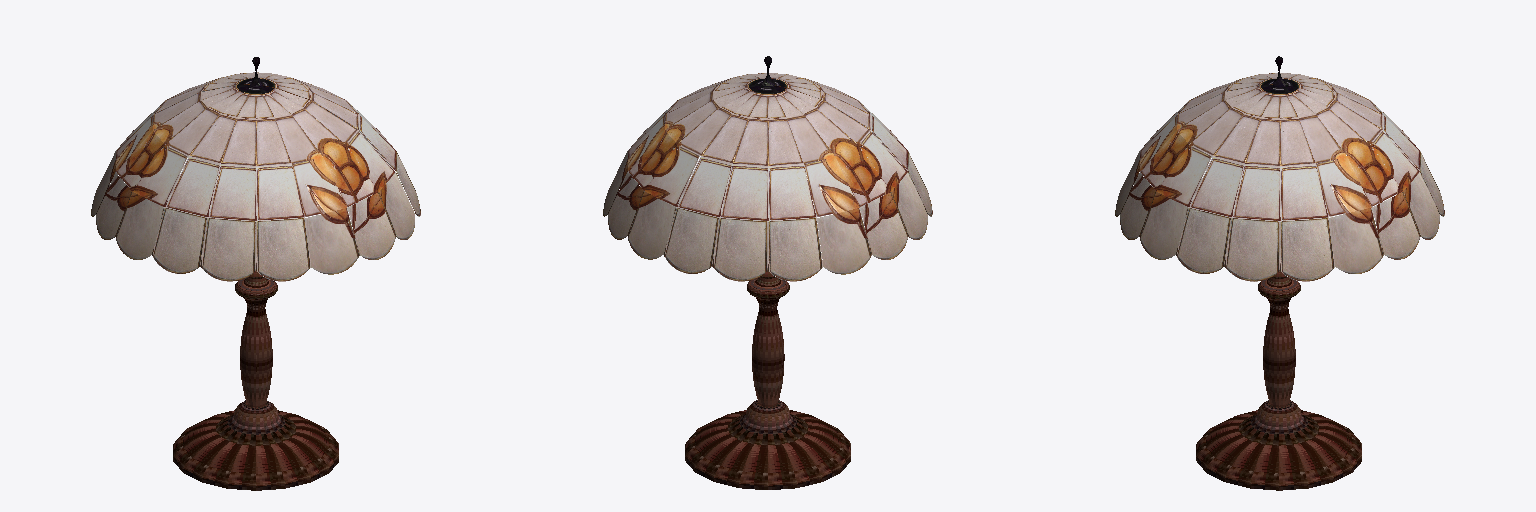
3 views of the same model, side by side, from view 1: azimuth 30°, elevation 25°; view 2: azimuth 150°, elevation 25°; view 3: azimuth 270°, elevation 25° (orthographic).
Parts seen in each view (by area): view 1: Mesh8 Group7 Model, Mesh6 Group2 Model, Mesh7 Group6 Model, Mesh10 osiemnastka1 Model, Mesh18 osiemnastka9 Model, Mesh17 osiemnastka8 Model, Mesh11 osiemnastka2 Model, Mesh16 osiemnastka7 Model, Mesh12 osiemnastka3 Model; view 2: Mesh7 Group6 Model, Mesh6 Group2 Model, Mesh9 Group8 Model, Mesh15 osiemnastka6 Model, Mesh16 osiemnastka7 Model, Mesh14 osiemnastka5 Model, Mesh17 osiemnastka8 Model, Mesh18 osiemnastka9 Model, Mesh13 osiemnastka4 Model; view 3: Mesh9 Group8 Model, Mesh6 Group2 Model, Mesh8 Group7 Model, Mesh13 osiemnastka4 Model, Mesh12 osiemnastka3 Model, Mesh11 osiemnastka2 Model, Mesh14 osiemnastka5 Model, Mesh10 osiemnastka1 Model, Mesh15 osiemnastka6 Model.
Boxes of the visible parts, x1=… form: Mesh8 Group7 Model: x1=258, y1=85, x2=414, y2=274; Mesh6 Group2 Model: x1=173, y1=271, x2=338, y2=490; Mesh7 Group6 Model: x1=91, y1=85, x2=250, y2=259; Mesh10 osiemnastka1 Model: x1=256, y1=88, x2=310, y2=281; Mesh18 osiemnastka9 Model: x1=201, y1=88, x2=255, y2=281; Mesh17 osiemnastka8 Model: x1=152, y1=87, x2=252, y2=273; Mesh11 osiemnastka2 Model: x1=259, y1=84, x2=420, y2=216; Mesh16 osiemnastka7 Model: x1=114, y1=82, x2=249, y2=153; Mesh12 osiemnastka3 Model: x1=263, y1=82, x2=392, y2=146; Mesh7 Group6 Model: x1=771, y1=86, x2=927, y2=274; Mesh6 Group2 Model: x1=685, y1=271, x2=850, y2=489; Mesh9 Group8 Model: x1=603, y1=84, x2=765, y2=259; Mesh15 osiemnastka6 Model: x1=712, y1=87, x2=767, y2=281; Mesh16 osiemnastka7 Model: x1=768, y1=87, x2=822, y2=281; Mesh14 osiemnastka5 Model: x1=664, y1=87, x2=765, y2=273; Mesh17 osiemnastka8 Model: x1=775, y1=84, x2=932, y2=216; Mesh18 osiemnastka9 Model: x1=775, y1=82, x2=903, y2=145; Mesh13 osiemnastka4 Model: x1=631, y1=82, x2=761, y2=146; Mesh9 Group8 Model: x1=1282, y1=85, x2=1439, y2=273; Mesh6 Group2 Model: x1=1196, y1=271, x2=1361, y2=490; Mesh8 Group7 Model: x1=1115, y1=85, x2=1274, y2=259; Mesh13 osiemnastka4 Model: x1=1280, y1=88, x2=1334, y2=281; Mesh12 osiemnastka3 Model: x1=1225, y1=88, x2=1279, y2=281; Mesh11 osiemnastka2 Model: x1=1176, y1=87, x2=1276, y2=273; Mesh14 osiemnastka5 Model: x1=1286, y1=84, x2=1444, y2=216; Mesh10 osiemnastka1 Model: x1=1135, y1=82, x2=1272, y2=159; Mesh15 osiemnastka6 Model: x1=1286, y1=82, x2=1415, y2=145.
Bounding box in the file's own units: 476 × 638 × 478.
Materials: 10 (8 with a texture image).